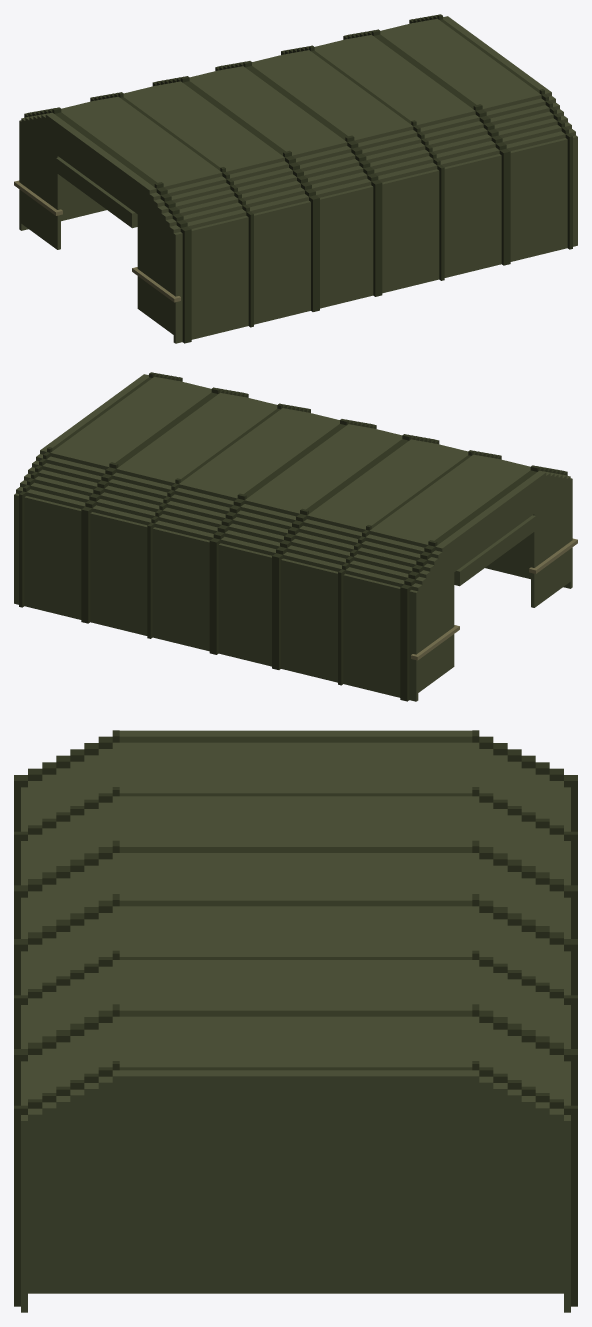
The model's file is military_cargo_truck_tilt.glb.
3 renders of one model, top to bottom at view 1: azimuth 30°, elevation 25°; view 2: azimuth 150°, elevation 25°; view 3: azimuth 270°, elevation 25°, orthographic. The views are drawn at different scales.
Parts seen in each view (by area): view 1: body:compound; view 2: body:compound; view 3: body:compound.
Boxes of the visible parts, left/top/right/bottom form: body:compound: left=14, top=14, right=577, bottom=343; body:compound: left=14, top=372, right=577, bottom=701; body:compound: left=14, top=730, right=577, bottom=1312.
Size of the model in its own units: 3.66 by 1.19 by 2.5.
